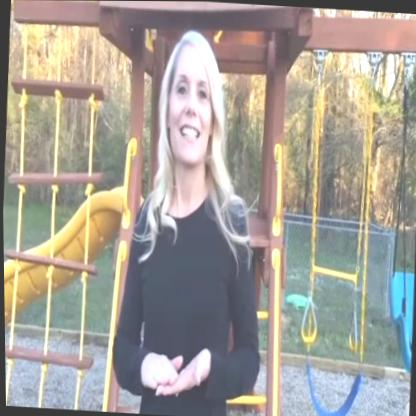ExcuseMe: (126, 327, 214, 416)
